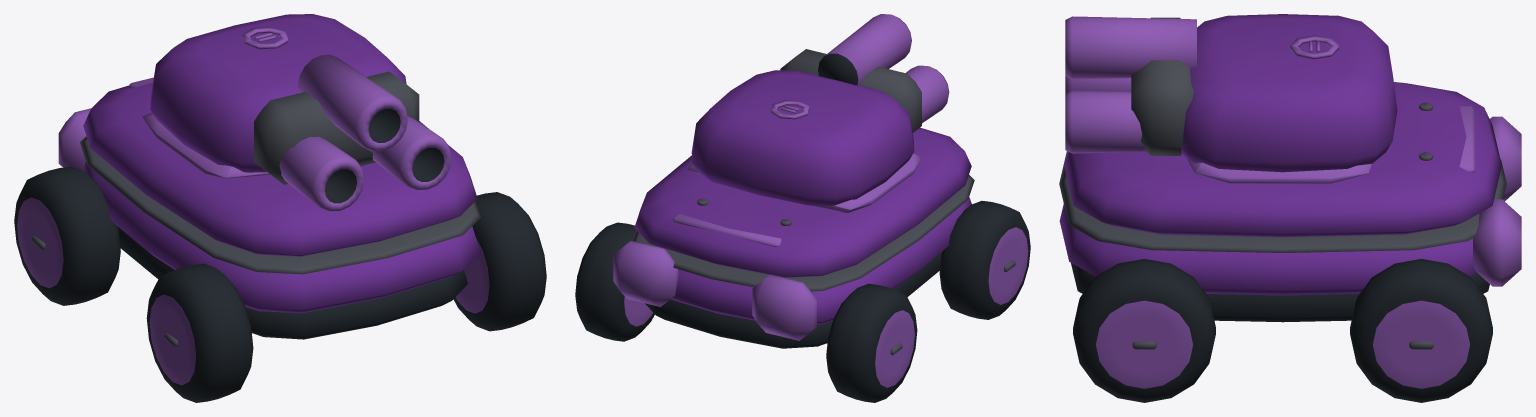
Rendered from TOY_SWARMER.lo.glb.
3 renders of one model, left to right at view 1: azimuth 30°, elevation 25°; view 2: azimuth 150°, elevation 25°; view 3: azimuth 270°, elevation 25°, orthographic. The views are drawn at different scales.
Visible parts, largest first — view 1: Body, TurretYaw, WheelsFront, BarrelRecoil, WheelsRear; view 2: Body, TurretYaw, WheelsRear, WheelsFront, BarrelRecoil; view 3: Body, TurretYaw, BarrelRecoil, WheelsRear, WheelsFront.
Boxes of the visible parts, <box> form: Body: <box>58,77,480,339</box>; TurretYaw: <box>142,14,406,178</box>; WheelsFront: <box>146,192,546,402</box>; BarrelRecoil: <box>254,54,451,211</box>; WheelsRear: <box>14,166,120,305</box>; Body: <box>613,127,974,348</box>; TurretYaw: <box>687,70,921,212</box>; WheelsRear: <box>575,222,917,402</box>; WheelsFront: <box>939,200,1030,319</box>; BarrelRecoil: <box>780,14,949,132</box>; Body: <box>1059,82,1521,322</box>; TurretYaw: <box>1181,14,1397,183</box>; BarrelRecoil: <box>1065,16,1196,155</box>; WheelsRear: <box>1350,259,1492,402</box>; WheelsFront: <box>1073,259,1215,402</box>.
Bounding box in the file's own units: 0.748 × 0.581 × 0.8077.
